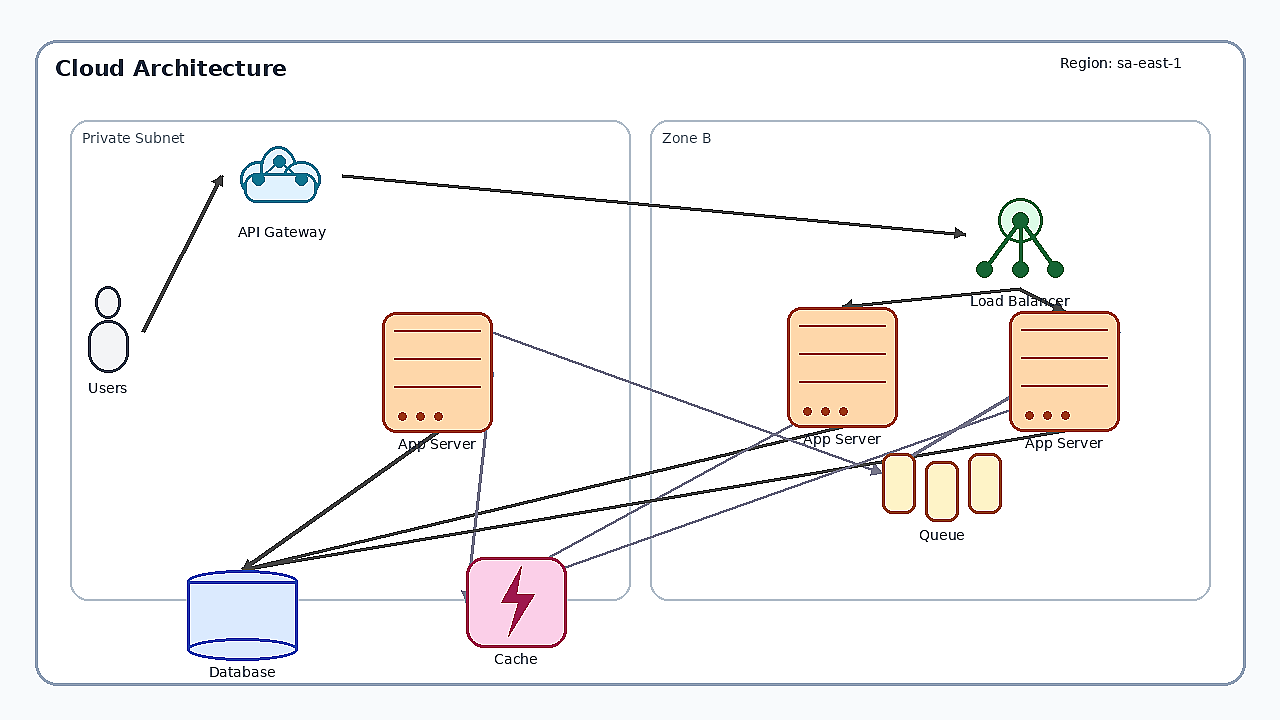API Gateway: (222, 130, 342, 220)
Application Server: (787, 307, 897, 427), (382, 312, 492, 432), (1009, 311, 1119, 431)
Cache: (466, 557, 566, 647)
Database: (187, 570, 297, 660)
Load Balancer: (965, 179, 1075, 289)
Message Queue: (882, 453, 1002, 523)
User: (73, 286, 143, 376)
